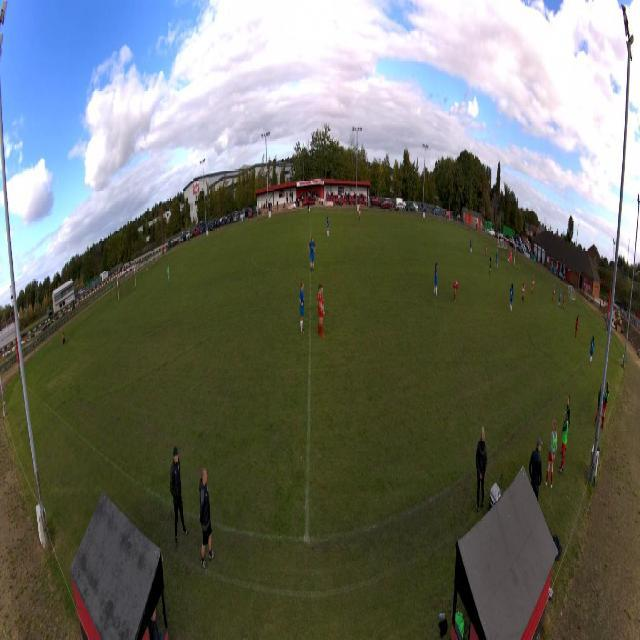player: (317, 283, 326, 338), (298, 281, 305, 337), (308, 236, 317, 273), (453, 278, 459, 304), (574, 314, 580, 340), (509, 283, 514, 314), (434, 261, 438, 298), (325, 215, 330, 237), (522, 278, 526, 305), (167, 263, 171, 290), (489, 252, 493, 276), (531, 273, 535, 295), (552, 283, 556, 304), (558, 289, 562, 310), (561, 291, 565, 312), (507, 252, 510, 272), (495, 250, 498, 270), (470, 235, 473, 255), (485, 241, 488, 259), (509, 250, 512, 267), (358, 205, 361, 221)
